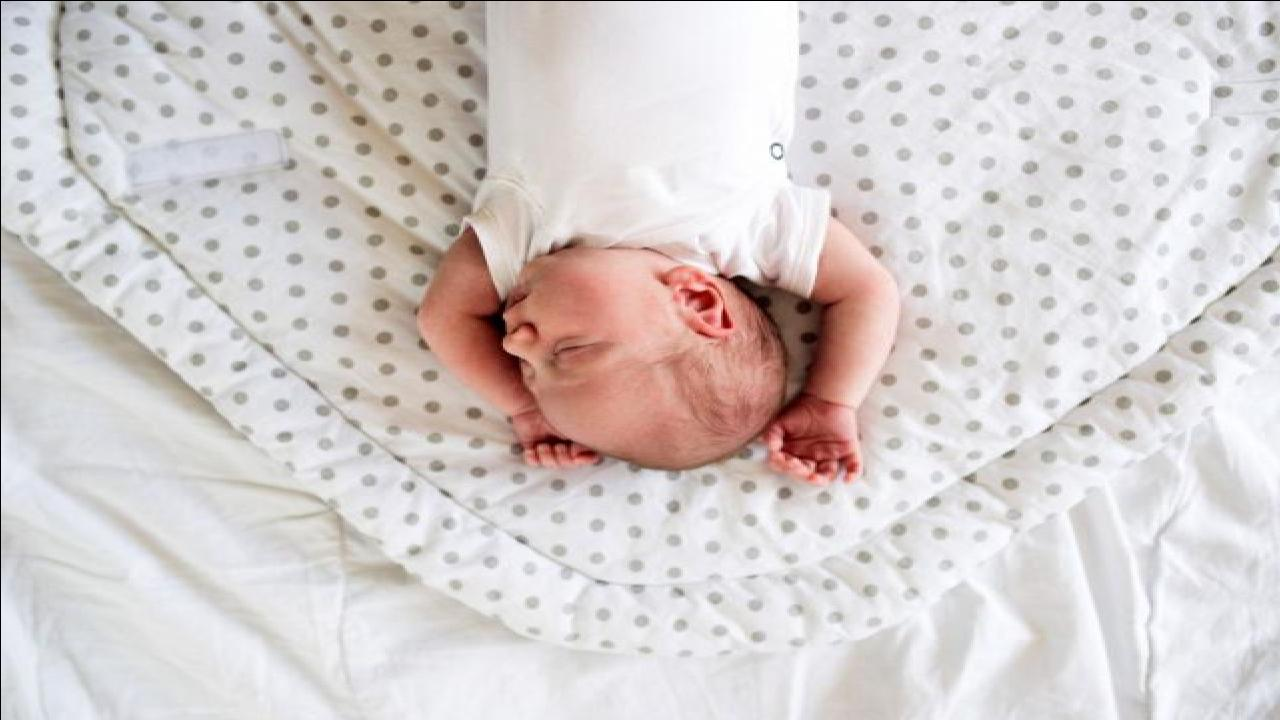hand: (752, 398, 876, 490), (500, 411, 612, 475)
